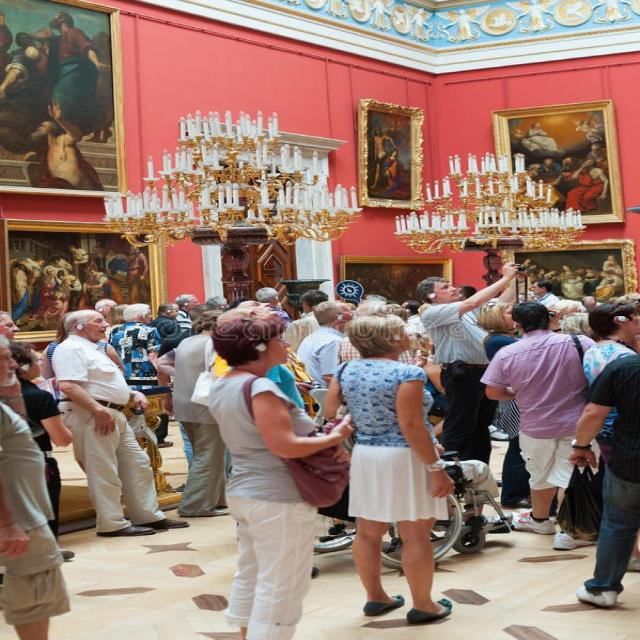body: (205, 304, 357, 640), (316, 313, 460, 629), (49, 307, 195, 537), (478, 301, 602, 551), (412, 259, 529, 488), (0, 334, 76, 638), (555, 351, 640, 607), (0, 9, 116, 191), (476, 300, 565, 510), (577, 297, 640, 573), (6, 340, 76, 561), (171, 310, 230, 518), (2, 238, 155, 313), (91, 283, 344, 328), (106, 302, 176, 450), (341, 284, 484, 356), (504, 120, 614, 212), (292, 299, 358, 390), (503, 253, 623, 298), (517, 279, 608, 338), (370, 118, 416, 198), (0, 301, 47, 345), (617, 288, 640, 312)
